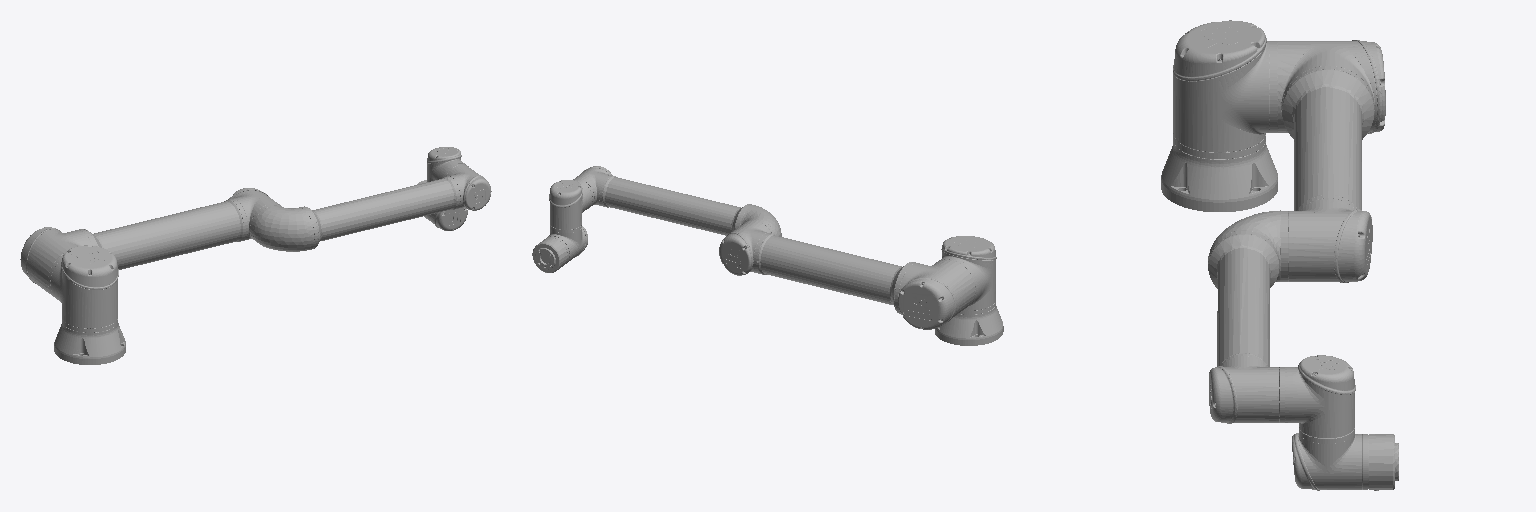
The robot description file, URDF, robot "ur10e_robot":
<?xml version="1.0" ?>
<!-- =================================================================================== -->
<!-- |    This document was autogenerated by xacro from ur10e.xacro                    | -->
<!-- |    EDITING THIS FILE BY HAND IS NOT RECOMMENDED                                 | -->
<!-- =================================================================================== -->
<robot name="ur10e_robot">
    <!--
    Base UR robot series xacro macro.

    NOTE: this is NOT a URDF. It cannot directly be loaded by consumers
    expecting a flattened '.urdf' file. See the top-level '.xacro' for that
    (but note: that .xacro must still be processed by the xacro command).

    For use in '.launch' files: use one of the 'load_urX.launch' convenience
    launch files.

    This file models the base kinematic chain of a UR robot, which then gets
    parameterised by various configuration files to convert it into a UR3(e),
    UR5(e), UR10(e) or UR16e.

    NOTE: the default kinematic parameters (ie: link lengths, frame locations,
    offets, etc) do not correspond to any particular robot. They are defaults
    only. There WILL be non-zero offsets between the Forward Kinematics results
    in TF (ie: robot_state_publisher) and the values reported by the Teach
    Pendant.

    For accurate (and robot-specific) transforms, the 'kinematics_parameters_file'
    parameter MUST point to a .yaml file containing the appropriate values for
    the targetted robot.

    If using the UniversalRobots/Universal_Robots_ROS_Driver, follow the steps
    described in the readme of that repository to extract the kinematic
    calibration from the controller and generate the required .yaml file.

    Main author of the migration to yaml configs: [author].

    Contributors to previous versions (in no particular order):

     - [author]
     - [author]
     - [author]
     - [author]
     - [author]
     - [author]
     - [author]
     - [author]
     - [author]
     - [author]
     - [author]
     - [author]
     - [author]
     - [author]
     - [author]
     - [author]
     - [author]
  -->
    <!--
    NOTE: the macro defined in this file is NOT part of the public API of this
          package. Users CANNOT rely on this file being available, or stored in
          this location. Nor can they rely on the existence of the macro.
  -->
    <transmission name="shoulder_pan_trans">
        <type>transmission_interface/SimpleTransmission</type>
        <joint name="shoulder_pan_joint">
            <hardwareInterface>hardware_interface/PositionJointInterface</hardwareInterface>
        </joint>
        <actuator name="shoulder_pan_motor">
            <mechanicalReduction>1</mechanicalReduction>
        </actuator>
    </transmission>
    <transmission name="shoulder_lift_trans">
        <type>transmission_interface/SimpleTransmission</type>
        <joint name="shoulder_lift_joint">
            <hardwareInterface>hardware_interface/PositionJointInterface</hardwareInterface>
        </joint>
        <actuator name="shoulder_lift_motor">
            <mechanicalReduction>1</mechanicalReduction>
        </actuator>
    </transmission>
    <transmission name="elbow_trans">
        <type>transmission_interface/SimpleTransmission</type>
        <joint name="elbow_joint">
            <hardwareInterface>hardware_interface/PositionJointInterface</hardwareInterface>
        </joint>
        <actuator name="elbow_motor">
            <mechanicalReduction>1</mechanicalReduction>
        </actuator>
    </transmission>
    <transmission name="wrist_1_trans">
        <type>transmission_interface/SimpleTransmission</type>
        <joint name="wrist_1_joint">
            <hardwareInterface>hardware_interface/PositionJointInterface</hardwareInterface>
        </joint>
        <actuator name="wrist_1_motor">
            <mechanicalReduction>1</mechanicalReduction>
        </actuator>
    </transmission>
    <transmission name="wrist_2_trans">
        <type>transmission_interface/SimpleTransmission</type>
        <joint name="wrist_2_joint">
            <hardwareInterface>hardware_interface/PositionJointInterface</hardwareInterface>
        </joint>
        <actuator name="wrist_2_motor">
            <mechanicalReduction>1</mechanicalReduction>
        </actuator>
    </transmission>
    <transmission name="wrist_3_trans">
        <type>transmission_interface/SimpleTransmission</type>
        <joint name="wrist_3_joint">
            <hardwareInterface>hardware_interface/PositionJointInterface</hardwareInterface>
        </joint>
        <actuator name="wrist_3_motor">
            <mechanicalReduction>1</mechanicalReduction>
        </actuator>
    </transmission>
    <!-- links: main serial chain -->
    <link name="base_link"/>
    <link name="base_link_inertia">
        <visual>
            <origin rpy="0 0 3.141592653589793" xyz="0 0 0"/>
            <geometry>
                <mesh filename="package://ur_description/meshes/ur10e/visual/base.stl"/>
            </geometry>
            <material name="LightGrey">
                <color rgba="0.7 0.7 0.7 1.0"/>
            </material>
        </visual>
        <collision>
            <origin rpy="0 0 3.141592653589793" xyz="0 0 0"/>
            <geometry>
                <mesh filename="package://ur_description/meshes/ur10e/collision/base.stl"/>
            </geometry>
        </collision>
        <inertial>
            <mass value="4.0"/>
            <origin rpy="0 0 0" xyz="0 0 0"/>
            <inertia ixx="0.0061063308908" ixy="0.0" ixz="0.0" iyy="0.0061063308908" iyz="0.0" izz="0.01125"/>
        </inertial>
    </link>
    <link name="shoulder_link">
        <visual>
            <origin rpy="0 0 3.141592653589793" xyz="0 0 0"/>
            <geometry>
                <mesh filename="package://ur_description/meshes/ur10e/visual/shoulder.stl"/>
            </geometry>
            <material name="LightGrey">
                <color rgba="0.7 0.7 0.7 1.0"/>
            </material>
        </visual>
        <collision>
            <origin rpy="0 0 3.141592653589793" xyz="0 0 0"/>
            <geometry>
                <mesh filename="package://ur_description/meshes/ur10e/collision/shoulder.stl"/>
            </geometry>
        </collision>
        <inertial>
            <mass value="7.778"/>
            <origin rpy="0 0 0" xyz="0 0 0"/>
            <inertia ixx="0.03147431257693659" ixy="0.0" ixz="0.0" iyy="0.03147431257693659" iyz="0.0" izz="0.021875624999999996"/>
        </inertial>
    </link>
    <link name="upper_arm_link">
        <visual>
            <origin rpy="1.5707963267948966 0 -1.5707963267948966" xyz="0 0 0.1762"/>
            <geometry>
                <mesh filename="package://ur_description/meshes/ur10e/visual/upperarm.stl"/>
            </geometry>
            <material name="LightGrey">
                <color rgba="0.7 0.7 0.7 1.0"/>
            </material>
        </visual>
        <collision>
            <origin rpy="1.5707963267948966 0 -1.5707963267948966" xyz="0 0 0.1762"/>
            <geometry>
                <mesh filename="package://ur_description/meshes/ur10e/collision/upperarm.stl"/>
            </geometry>
        </collision>
        <inertial>
            <mass value="12.93"/>
            <origin rpy="0 1.5707963267948966 0" xyz="-0.306 0.0 0.175"/>
            <inertia ixx="0.42175380379841093" ixy="0.0" ixz="0.0" iyy="0.42175380379841093" iyz="0.0" izz="0.03636562499999999"/>
        </inertial>
    </link>
    <link name="forearm_link">
        <visual>
            <origin rpy="1.5707963267948966 0 -1.5707963267948966" xyz="0 0 0.0393"/>
            <geometry>
                <mesh filename="package://ur_description/meshes/ur10e/visual/forearm.stl"/>
            </geometry>
            <material name="LightGrey">
                <color rgba="0.7 0.7 0.7 1.0"/>
            </material>
        </visual>
        <collision>
            <origin rpy="1.5707963267948966 0 -1.5707963267948966" xyz="0 0 0.0393"/>
            <geometry>
                <mesh filename="package://ur_description/meshes/ur10e/collision/forearm.stl"/>
            </geometry>
        </collision>
        <inertial>
            <mass value="3.87"/>
            <origin rpy="0 1.5707963267948966 0" xyz="-0.285775 0.0 0.0393"/>
            <inertia ixx="0.11079302548902206" ixy="0.0" ixz="0.0" iyy="0.11079302548902206" iyz="0.0" izz="0.010884375"/>
        </inertial>
    </link>
    <link name="wrist_1_link">
        <visual>
            <!-- TODO: Move this to a parameter -->
            <origin rpy="1.5707963267948966 0 0" xyz="0 0 -0.135"/>
            <geometry>
                <mesh filename="package://ur_description/meshes/ur10e/visual/wrist1.stl"/>
            </geometry>
            <material name="LightGrey">
                <color rgba="0.7 0.7 0.7 1.0"/>
            </material>
        </visual>
        <collision>
            <origin rpy="1.5707963267948966 0 0" xyz="0 0 -0.135"/>
            <geometry>
                <mesh filename="package://ur_description/meshes/ur10e/collision/wrist1.stl"/>
            </geometry>
        </collision>
        <inertial>
            <mass value="1.96"/>
            <origin rpy="0 0 0" xyz="0 0 0"/>
            <inertia ixx="0.005108247956699999" ixy="0.0" ixz="0.0" iyy="0.005108247956699999" iyz="0.0" izz="0.005512499999999999"/>
        </inertial>
    </link>
    <link name="wrist_2_link">
        <visual>
            <origin rpy="0 0 0" xyz="0 0 -0.12"/>
            <geometry>
                <mesh filename="package://ur_description/meshes/ur10e/visual/wrist2.stl"/>
            </geometry>
            <material name="LightGrey">
                <color rgba="0.7 0.7 0.7 1.0"/>
            </material>
        </visual>
        <collision>
            <origin rpy="0 0 0" xyz="0 0 -0.12"/>
            <geometry>
                <mesh filename="package://ur_description/meshes/ur10e/collision/wrist2.stl"/>
            </geometry>
        </collision>
        <inertial>
            <mass value="1.96"/>
            <origin rpy="0 0 0" xyz="0 0 0"/>
            <inertia ixx="0.005108247956699999" ixy="0.0" ixz="0.0" iyy="0.005108247956699999" iyz="0.0" izz="0.005512499999999999"/>
        </inertial>
    </link>
    <link name="wrist_3_link">
        <visual>
            <origin rpy="1.5707963267948966 0 0" xyz="0 0 -0.1168"/>
            <geometry>
                <mesh filename="package://ur_description/meshes/ur10e/visual/wrist3.stl"/>
            </geometry>
            <material name="LightGrey">
                <color rgba="0.7 0.7 0.7 1.0"/>
            </material>
        </visual>
        <collision>
            <origin rpy="1.5707963267948966 0 0" xyz="0 0 -0.1168"/>
            <geometry>
                <mesh filename="package://ur_description/meshes/ur10e/collision/wrist3.stl"/>
            </geometry>
        </collision>
        <inertial>
            <mass value="0.202"/>
            <origin rpy="0 0 0" xyz="0.0 0.0 -0.025"/>
            <inertia ixx="0.00014434577559500002" ixy="0.0" ixz="0.0" iyy="0.00014434577559500002" iyz="0.0" izz="0.00020452500000000002"/>
        </inertial>
    </link>
    <!-- joints: main serial chain -->
    <joint name="base_link-base_link_inertia" type="fixed">
        <parent link="base_link"/>
        <child link="base_link_inertia"/>
        <!-- 'base_link' is REP-103 aligned (so X+ forward), while the internal
           frames of the robot/controller have X+ pointing backwards.
           Use the joint between 'base_link' and 'base_link_inertia' (a dummy
           link/frame) to introduce the necessary rotation over Z (of pi rad).
      -->
        <origin rpy="0 0 3.141592653589793" xyz="0 0 0"/>
    </joint>
    <joint name="shoulder_pan_joint" type="revolute">
        <parent link="base_link_inertia"/>
        <child link="shoulder_link"/>
        <origin rpy="0 0 0" xyz="0 0 0.1807"/>
        <axis xyz="0 0 1"/>
        <limit effort="330.0" lower="-6.283185307179586" upper="6.283185307179586" velocity="2.0943951023931953"/>
        <dynamics damping="0" friction="0"/>
    </joint>
    <joint name="shoulder_lift_joint" type="revolute">
        <parent link="shoulder_link"/>
        <child link="upper_arm_link"/>
        <origin rpy="1.570796327 0 0" xyz="0 0 0"/>
        <axis xyz="0 0 1"/>
        <limit effort="330.0" lower="-6.283185307179586" upper="6.283185307179586" velocity="2.0943951023931953"/>
        <dynamics damping="0" friction="0"/>
    </joint>
    <joint name="elbow_joint" type="revolute">
        <parent link="upper_arm_link"/>
        <child link="forearm_link"/>
        <origin rpy="0 0 0" xyz="-0.6127 0 0"/>
        <axis xyz="0 0 1"/>
        <limit effort="150.0" lower="-6.2831853" upper="6.2831853" velocity="3.141592653589793"/>
        <dynamics damping="0" friction="0"/>
    </joint>
    <joint name="wrist_1_joint" type="revolute">
        <parent link="forearm_link"/>
        <child link="wrist_1_link"/>
        <origin rpy="0 0 0" xyz="-0.57155 0 0.17415"/>
        <axis xyz="0 0 1"/>
        <limit effort="56.0" lower="-6.283185307179586" upper="6.283185307179586" velocity="3.141592653589793"/>
        <dynamics damping="0" friction="0"/>
    </joint>
    <joint name="wrist_2_joint" type="revolute">
        <parent link="wrist_1_link"/>
        <child link="wrist_2_link"/>
        <origin rpy="1.570796327 0 0" xyz="0 -0.11985 -2.458164590756244e-11"/>
        <axis xyz="0 0 1"/>
        <limit effort="56.0" lower="-6.283185307179586" upper="6.283185307179586" velocity="3.141592653589793"/>
        <dynamics damping="0" friction="0"/>
    </joint>
    <joint name="wrist_3_joint" type="revolute">
        <parent link="wrist_2_link"/>
        <child link="wrist_3_link"/>
        <origin rpy="1.570796326589793 3.141592653589793 3.141592653589793" xyz="0 0.11655 -2.390480459346185e-11"/>
        <axis xyz="0 0 1"/>
        <limit effort="56.0" lower="-6.283185307179586" upper="6.283185307179586" velocity="3.141592653589793"/>
        <dynamics damping="0" friction="0"/>
    </joint>
    <!-- ROS-Industrial 'base' frame: base_link to UR 'Base' Coordinates transform -->
    <link name="base"/>
    <joint name="base_link-base_fixed_joint" type="fixed">
        <!-- Note the rotation over Z of pi radians: as base_link is REP-103
           aligned (ie: has X+ forward, Y+ left and Z+ up), this is needed
           to correctly align 'base' with the 'Base' coordinate system of
           the UR controller.
      -->
        <origin rpy="0 0 3.141592653589793" xyz="0 0 0"/>
        <parent link="base_link"/>
        <child link="base"/>
    </joint>
    <!-- ROS-Industrial 'flange' frame: attachment point for EEF models -->
    <link name="flange"/>
    <joint name="wrist_3-flange" type="fixed">
        <parent link="wrist_3_link"/>
        <child link="flange"/>
        <origin rpy="0 -1.5707963267948966 -1.5707963267948966" xyz="0 0 0"/>
    </joint>
    <!-- ROS-Industrial 'tool0' frame: all-zeros tool frame -->
    <link name="tool0"/>
    <joint name="flange-tool0" type="fixed">
        <!-- default toolframe: X+ left, Y+ up, Z+ front -->
        <origin rpy="1.5707963267948966 0 1.5707963267948966" xyz="0 0 0"/>
        <parent link="flange"/>
        <child link="tool0"/>
    </joint>
</robot>

--- Render facts (derived) ---
Views: 3 orthographic renders of the robot side by side, from view 1: azimuth 30°, elevation 25°; view 2: azimuth 150°, elevation 25°; view 3: azimuth 270°, elevation 25°.
Robot: ur10e_robot — 11 links, 10 joints (6 revolute, 4 fixed); root link base_link; default pose: all joints at 0.
Links seen in each view (by area): view 1: upper_arm_link, forearm_link, shoulder_link, base_link_inertia, wrist_1_link, wrist_2_link; view 2: upper_arm_link, forearm_link, shoulder_link, base_link_inertia, wrist_1_link, wrist_3_link, wrist_2_link; view 3: upper_arm_link, forearm_link, shoulder_link, base_link_inertia, wrist_1_link, wrist_2_link, wrist_3_link.
Boxes of the visible links, left/top/right/bottom form: upper_arm_link: left=20, top=188, right=281, bottom=296; forearm_link: left=253, top=164, right=491, bottom=251; shoulder_link: left=48, top=245, right=118, bottom=327; base_link_inertia: left=54, top=319, right=125, bottom=364; wrist_1_link: left=427, top=147, right=468, bottom=181; wrist_2_link: left=424, top=207, right=467, bottom=230; upper_arm_link: left=719, top=219, right=975, bottom=329; forearm_link: left=573, top=166, right=781, bottom=236; shoulder_link: left=936, top=236, right=996, bottom=309; base_link_inertia: left=935, top=302, right=1003, bottom=345; wrist_1_link: left=549, top=180, right=591, bottom=232; wrist_3_link: left=532, top=238, right=567, bottom=272; wrist_2_link: left=547, top=226, right=587, bottom=263; upper_arm_link: left=1278, top=40, right=1385, bottom=282; forearm_link: left=1208, top=210, right=1284, bottom=423; shoulder_link: left=1173, top=20, right=1277, bottom=151; base_link_inertia: left=1161, top=133, right=1277, bottom=211; wrist_1_link: left=1285, top=355, right=1355, bottom=443; wrist_2_link: left=1292, top=433, right=1368, bottom=490; wrist_3_link: left=1369, top=434, right=1398, bottom=490.
Size in the robot's own frame: 1.33 by 0.3857 by 0.2746 metres.
Meshes: 7 distinct files referenced, 7 mesh visuals loaded (7 binary STL).